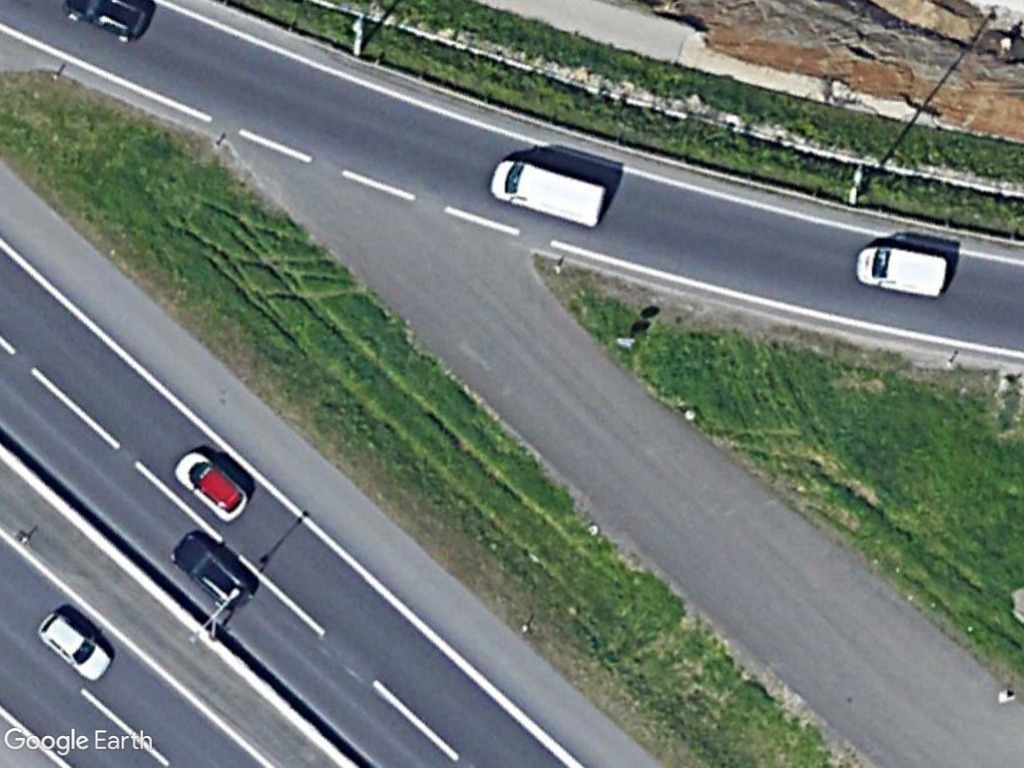car: (166, 525, 260, 615), (168, 449, 254, 528), (35, 608, 115, 684)
van: (487, 157, 610, 231), (849, 242, 951, 303)
